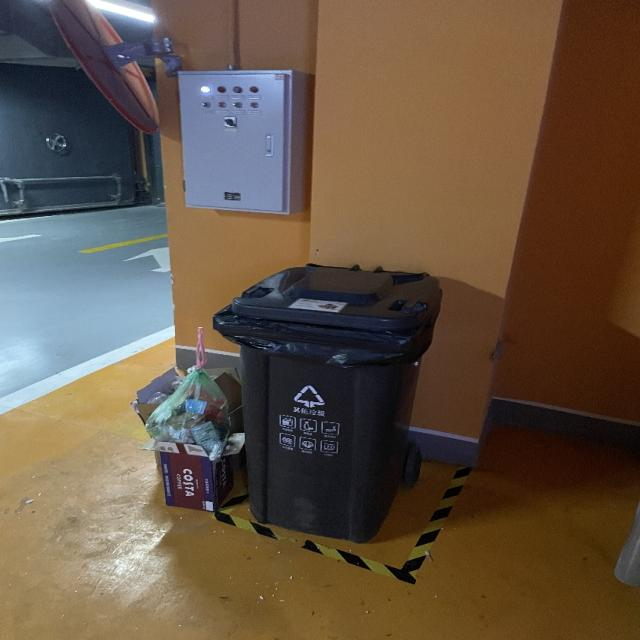garbage: (130, 326, 245, 511)
garbage_bin: (210, 262, 441, 542)
